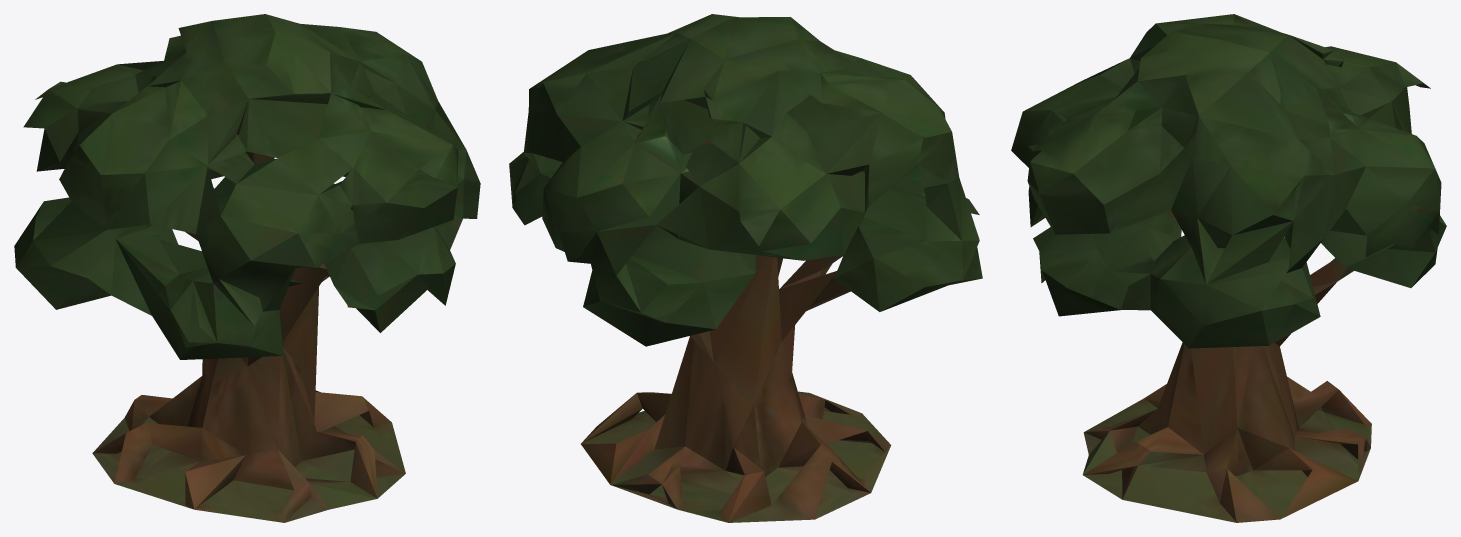
Rendered from bg_forest_leaf_3_lod0.glb.
3 views of the same model, side by side, from view 1: azimuth 30°, elevation 25°; view 2: azimuth 150°, elevation 25°; view 3: azimuth 270°, elevation 25° (orthographic). The views are drawn at different scales.
Visible parts, largest first — view 1: sway, body; view 2: sway, body; view 3: sway, body.
Boxes of the visible parts, bbox=[...] form: sway: bbox=[14, 14, 480, 359]; body: bbox=[92, 102, 405, 522]; sway: bbox=[509, 14, 982, 346]; body: bbox=[581, 140, 891, 522]; sway: bbox=[1011, 14, 1446, 348]; body: bbox=[1082, 210, 1371, 522].
Size of the model in its own units: 5.33 by 4.92 by 4.59.
Materials: 1 (1 with a texture image).
